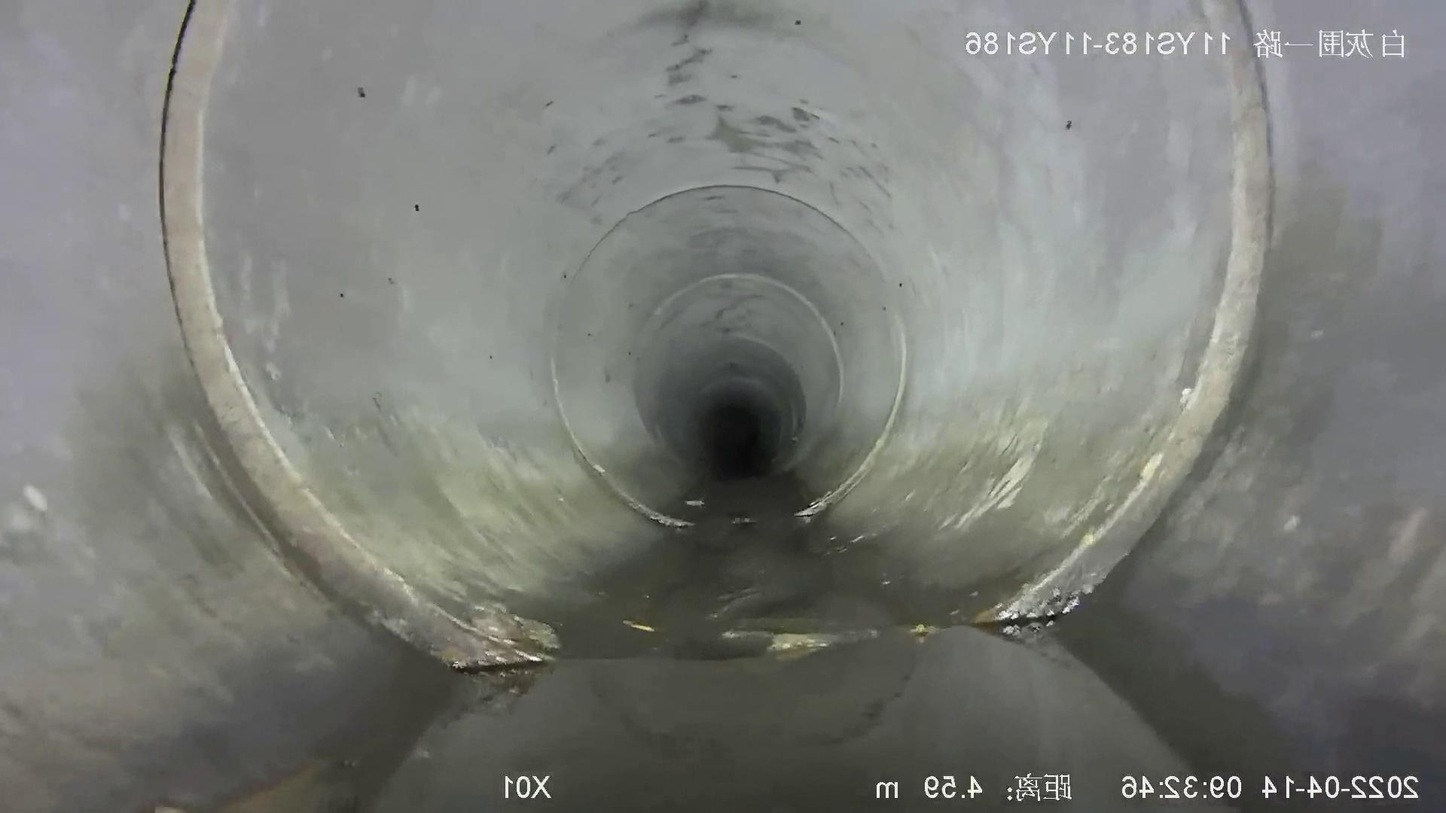CKTJ: (160, 0, 552, 669), (981, 0, 1272, 623), (542, 177, 911, 532)
